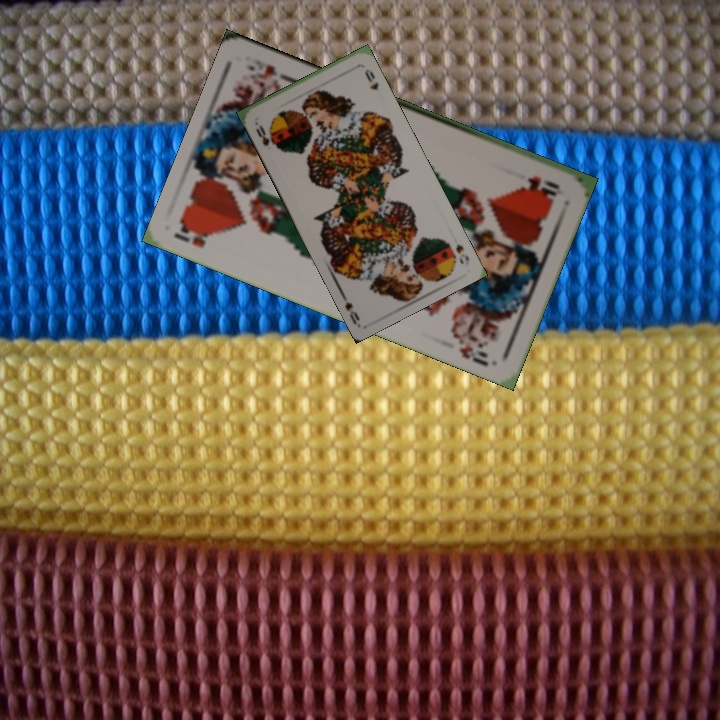HO: (170, 219, 216, 251), (523, 172, 565, 198)
SO: (252, 120, 272, 148), (452, 240, 472, 267)
